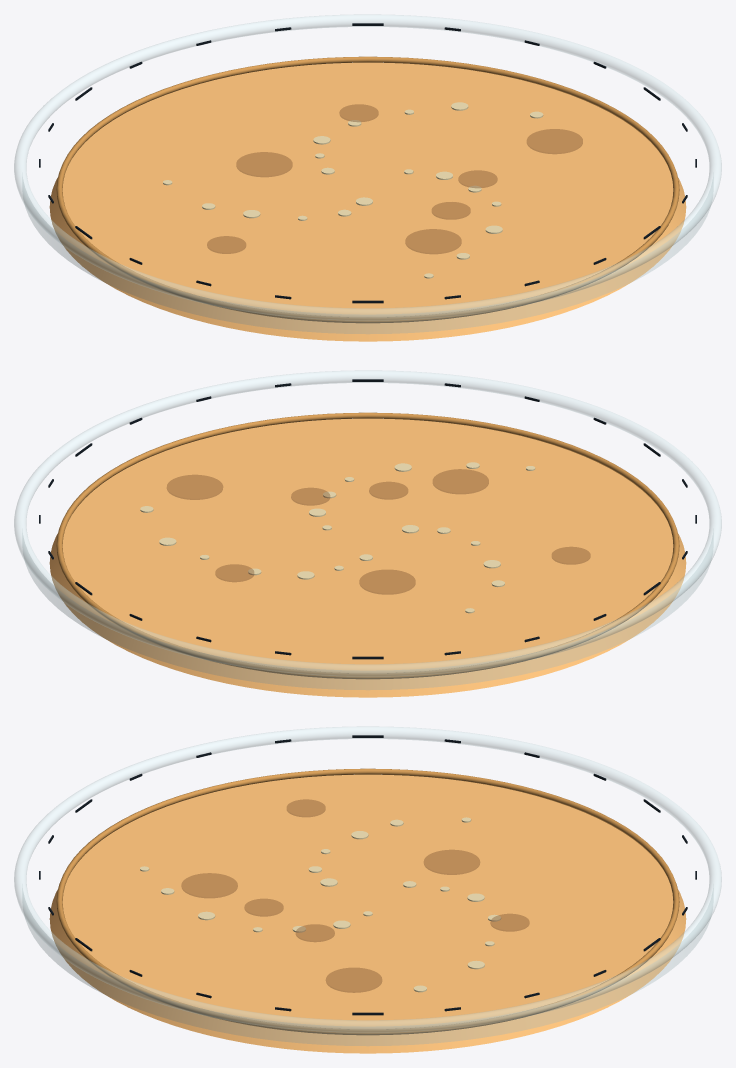
The model's file is petri-dish-plaque-assay.glb.
3 renders of one model, top to bottom at view 1: azimuth 30°, elevation 25°; view 2: azimuth 150°, elevation 25°; view 3: azimuth 270°, elevation 25°, orthographic.
Visible parts, largest first — view 1: amber_agar_surface, raised_clear_lid_rim, transparent_lid_wall, agar_meniscus_rim, cloudy_phage_plaque_1, cloudy_phage_plaque_3, cloudy_phage_plaque_5, cloudy_phage_plaque_0, cloudy_phage_plaque_2, cloudy_phage_plaque_4, cloudy_phage_plaque_6; view 2: amber_agar_surface, raised_clear_lid_rim, transparent_lid_wall, agar_meniscus_rim, cloudy_phage_plaque_3, cloudy_phage_plaque_1, cloudy_phage_plaque_5, cloudy_phage_plaque_2, cloudy_phage_plaque_4, cloudy_phage_plaque_0, cloudy_phage_plaque_6; view 3: amber_agar_surface, raised_clear_lid_rim, transparent_lid_wall, agar_meniscus_rim, cloudy_phage_plaque_1, cloudy_phage_plaque_5, cloudy_phage_plaque_3, cloudy_phage_plaque_4, cloudy_phage_plaque_6, cloudy_phage_plaque_0, cloudy_phage_plaque_2.
Boxes of the visible parts, <box> form: amber_agar_surface: <box>49,62,686,341</box>; raised_clear_lid_rim: <box>14,14,721,320</box>; transparent_lid_wall: <box>23,182,712,333</box>; agar_meniscus_rim: <box>56,56,679,323</box>; cloudy_phage_plaque_1: <box>405,229,461,253</box>; cloudy_phage_plaque_3: <box>236,152,292,176</box>; cloudy_phage_plaque_5: <box>527,129,582,153</box>; cloudy_phage_plaque_0: <box>458,170,497,187</box>; cloudy_phage_plaque_2: <box>207,236,245,253</box>; cloudy_phage_plaque_4: <box>339,104,378,121</box>; cloudy_phage_plaque_6: <box>432,202,470,219</box>; amber_agar_surface: <box>49,418,686,697</box>; raised_clear_lid_rim: <box>14,370,721,676</box>; transparent_lid_wall: <box>23,538,712,689</box>; agar_meniscus_rim: <box>56,412,679,679</box>; cloudy_phage_plaque_3: <box>359,570,415,594</box>; cloudy_phage_plaque_1: <box>433,469,488,493</box>; cloudy_phage_plaque_5: <box>167,475,222,499</box>; cloudy_phage_plaque_2: <box>552,547,590,564</box>; cloudy_phage_plaque_4: <box>215,564,253,581</box>; cloudy_phage_plaque_0: <box>291,488,329,505</box>; cloudy_phage_plaque_6: <box>369,482,407,499</box>; amber_agar_surface: <box>49,774,686,1053</box>; raised_clear_lid_rim: <box>14,726,721,1032</box>; transparent_lid_wall: <box>23,893,712,1045</box>; agar_meniscus_rim: <box>56,768,679,1035</box>; cloudy_phage_plaque_1: <box>181,873,237,897</box>; cloudy_phage_plaque_5: <box>326,968,381,992</box>; cloudy_phage_plaque_3: <box>424,850,479,874</box>; cloudy_phage_plaque_4: <box>490,914,529,931</box>; cloudy_phage_plaque_6: <box>244,899,283,916</box>; cloudy_phage_plaque_0: <box>296,924,334,941</box>; cloudy_phage_plaque_2: <box>287,799,325,816</box>.
Size of the model in its own units: 18.02 by 1.27 by 18.02.
